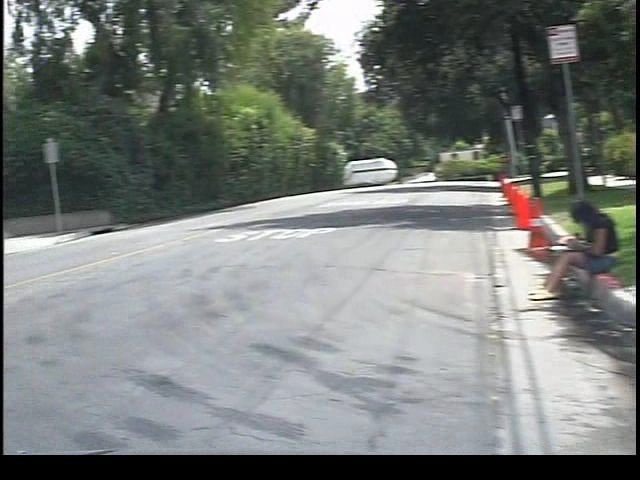person: (501, 193, 601, 303)
